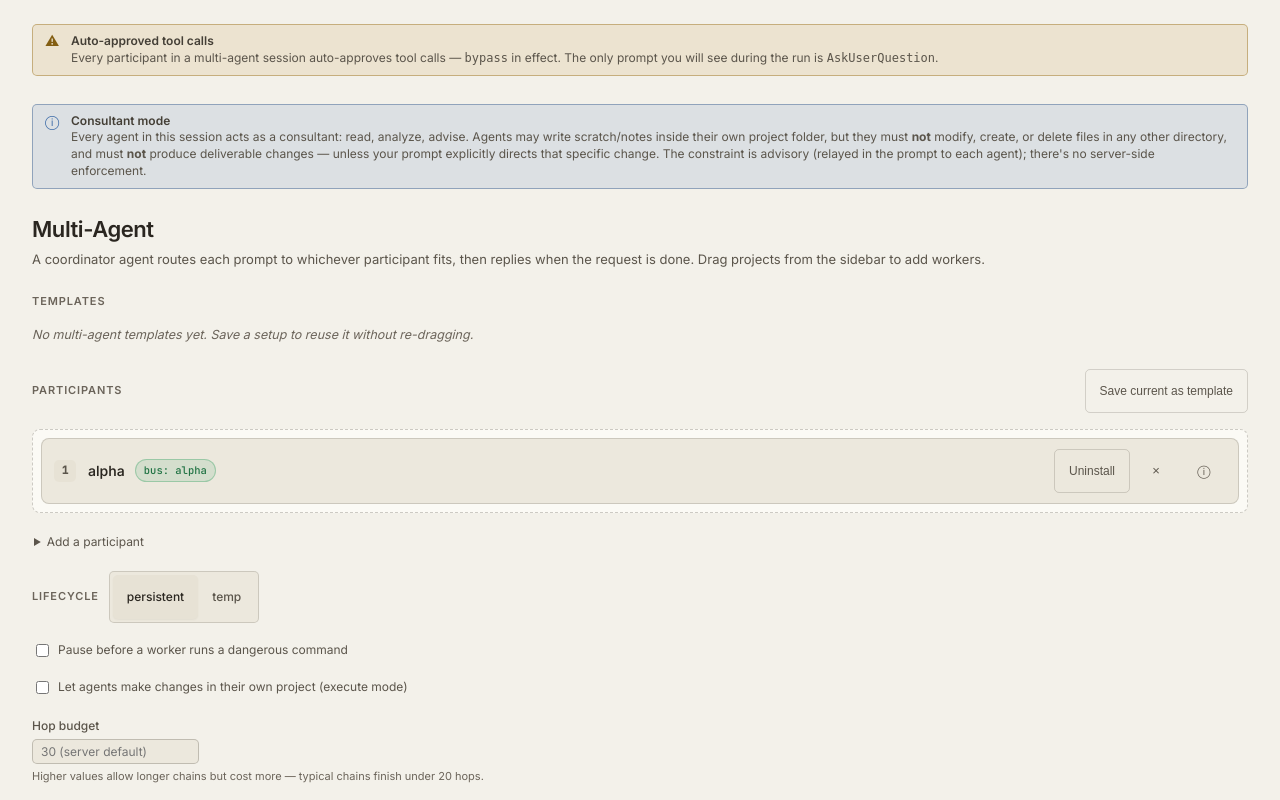
it: bus uninstall is gated (U15) › confirming uninstalls exactly once, with the project id
Click the button "Uninstall".
click(1092, 470)  # box [1054,448,1130,492]
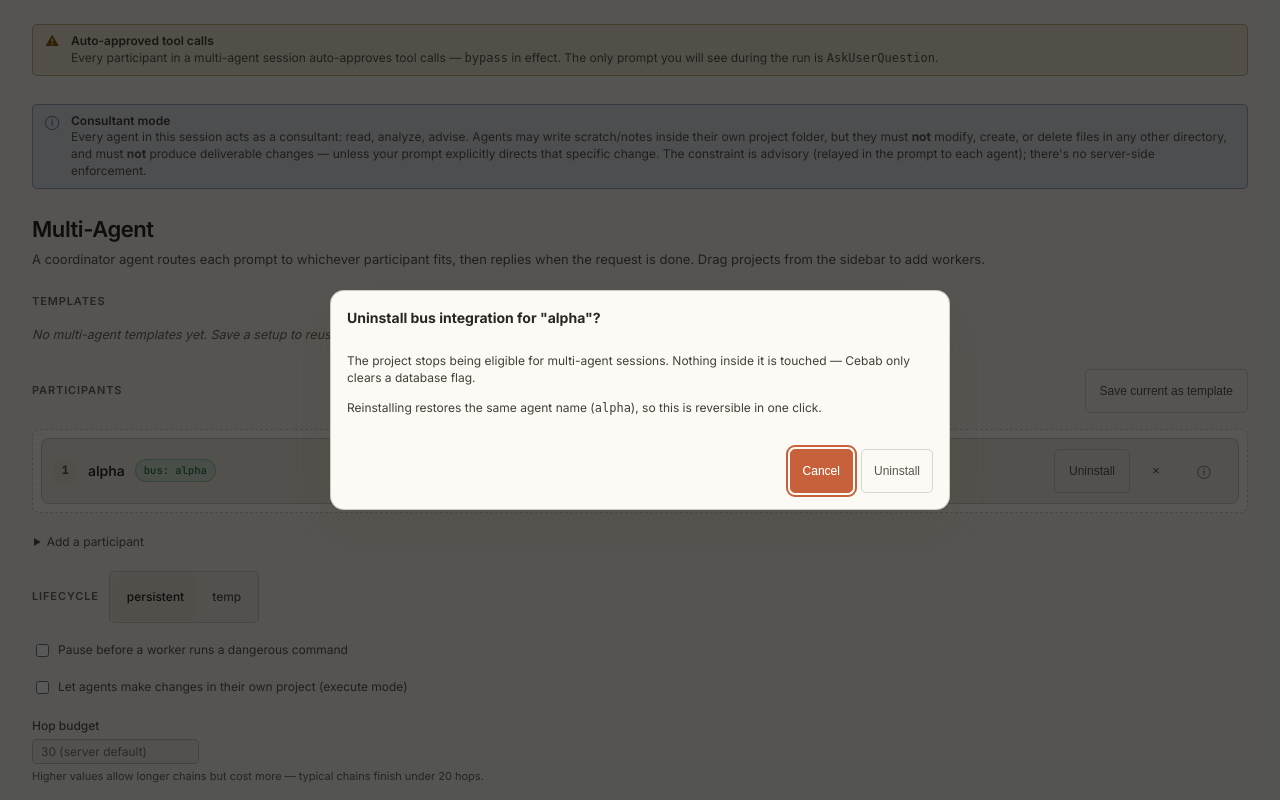
Click the button with class "gate-modal-btn" showing "Uninstall".
click(897, 471)  # box [861,449,933,493]
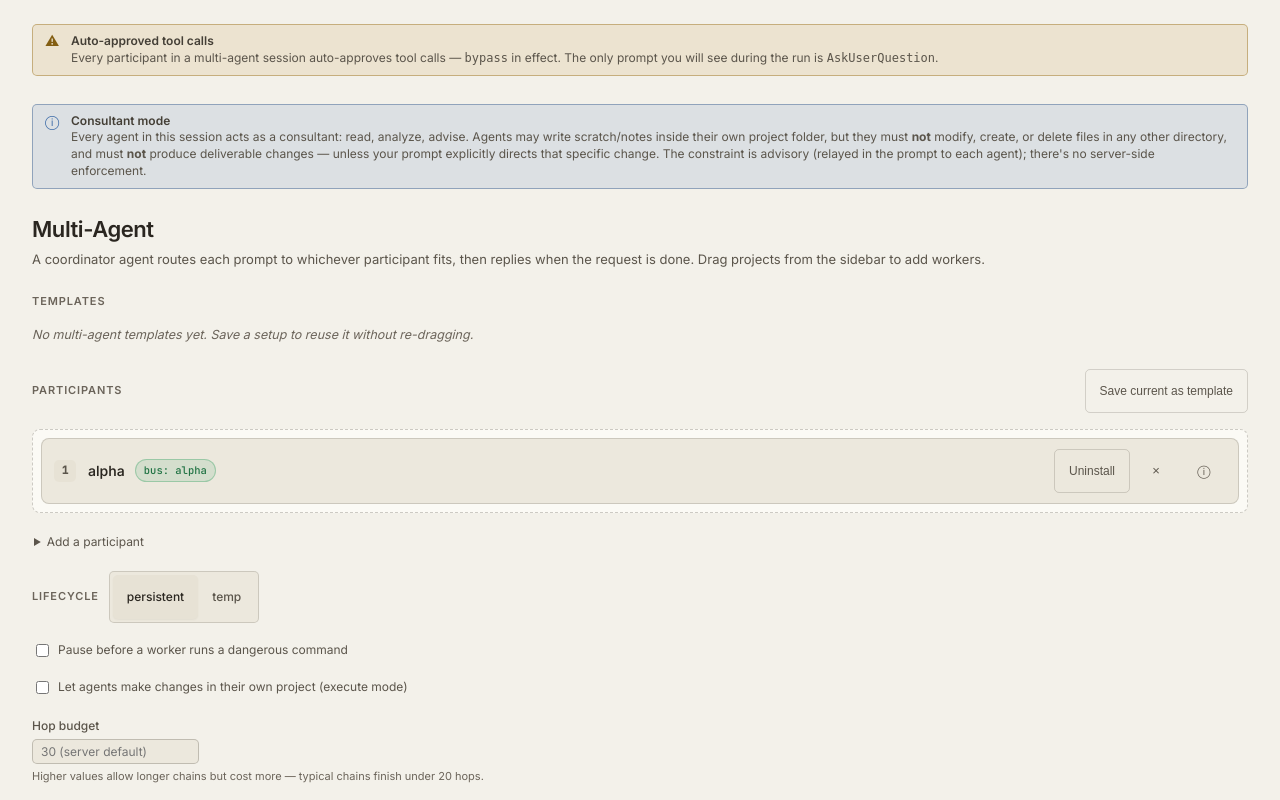
Result: the dialog with class "gate-modal-overlay" is gone
